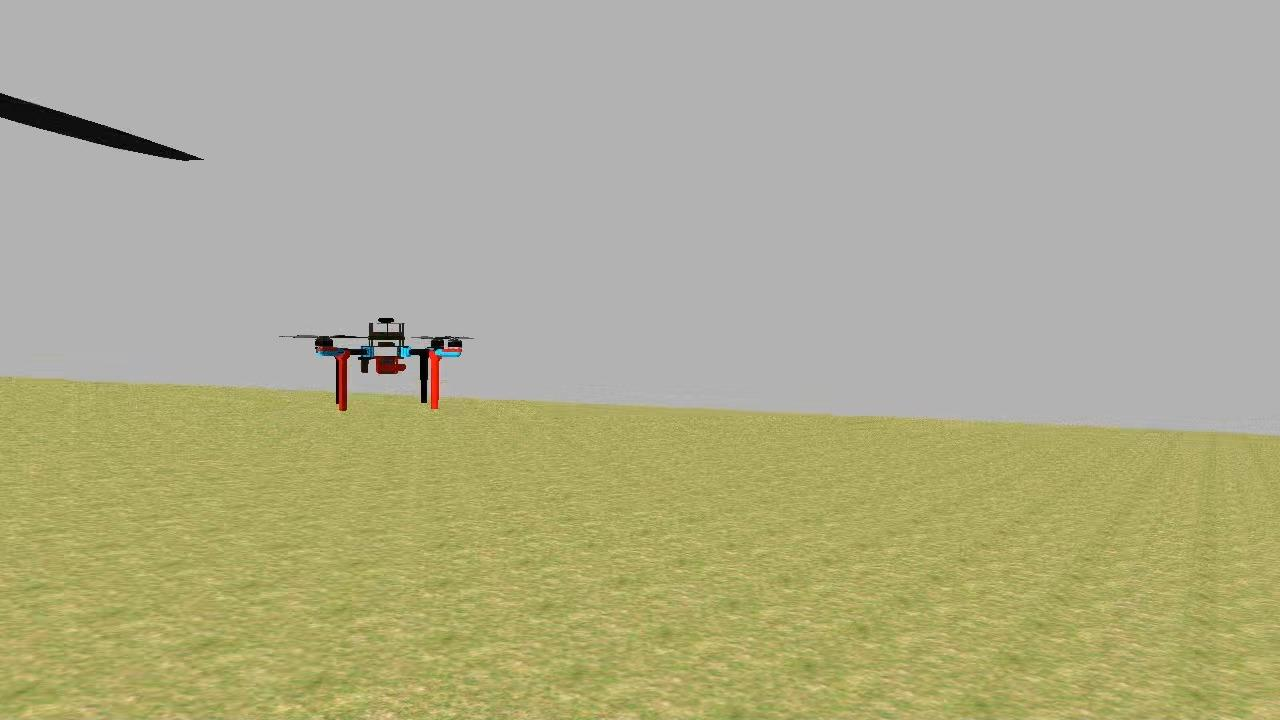UAV: (304, 314, 474, 412)
